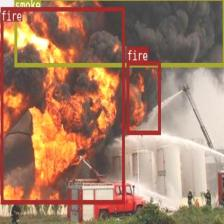fire: (0, 6, 124, 204), (127, 60, 160, 134)
smoke: (14, 0, 224, 66)
